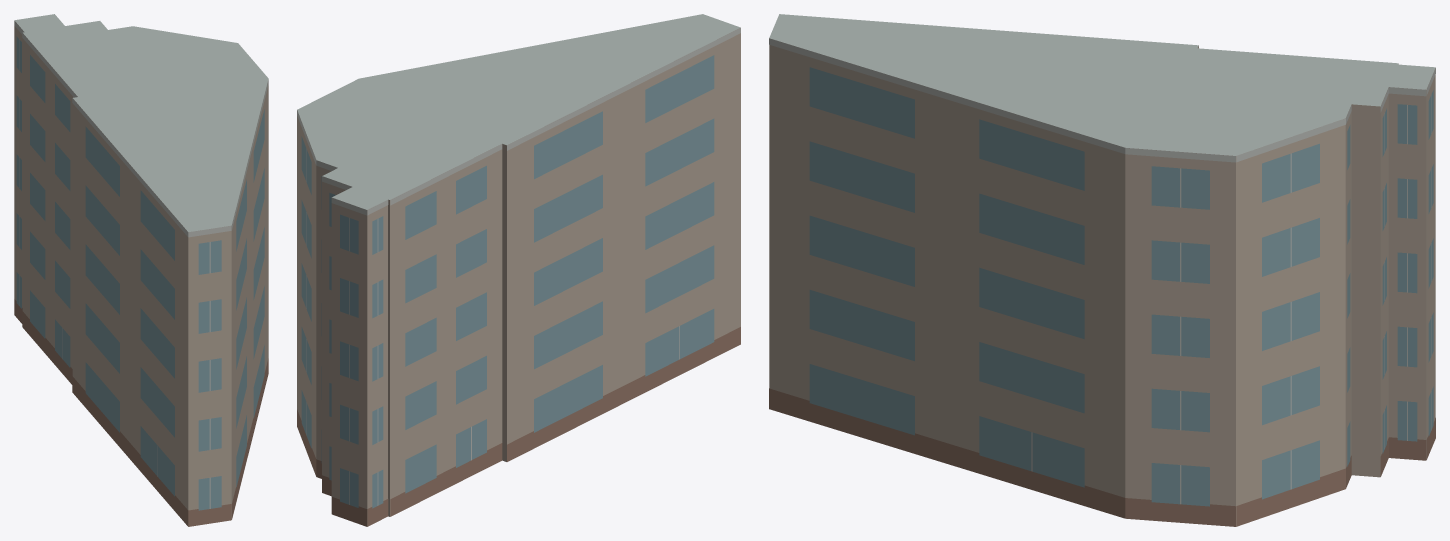
The model's file is survey-upis-32657086.glb.
The picture shows the model from 3 angles, left to right: view 1: azimuth 30°, elevation 25°; view 2: azimuth 150°, elevation 25°; view 3: azimuth 270°, elevation 25°; orthographic projection. The views are drawn at different scales.
Parts seen in each view (by area): view 1: survey-upis-32657086.tmp; view 2: survey-upis-32657086.tmp; view 3: survey-upis-32657086.tmp.
Part boxes in pixels (bbox=[...]): survey-upis-32657086.tmp: bbox=[14, 14, 268, 526]; survey-upis-32657086.tmp: bbox=[297, 14, 740, 526]; survey-upis-32657086.tmp: bbox=[769, 14, 1435, 526].
Size of the model in its own units: 11.42 by 13.9 by 22.66.
